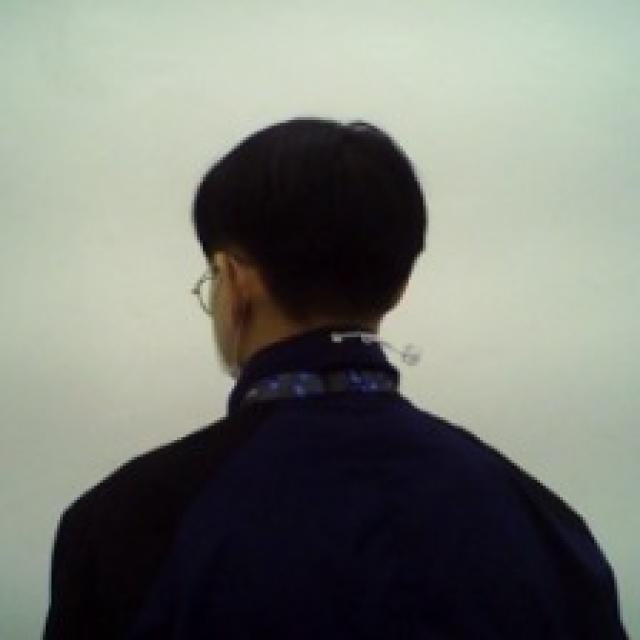no_gloves: (184, 108, 433, 336)
